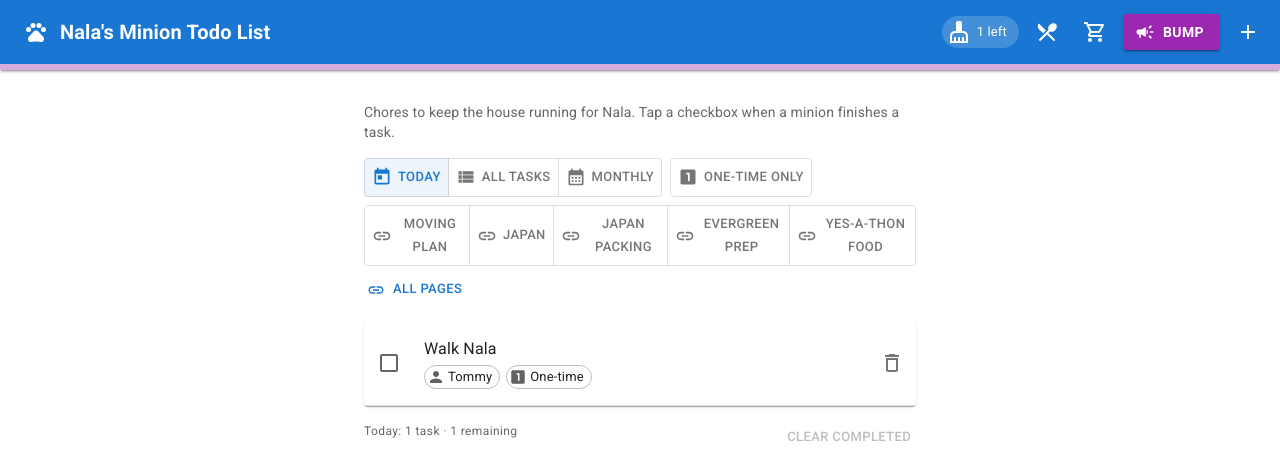
Test: removing a chore › deletes that one task by id instead of relying on the bulk save
This screenshot has width=1280, height=458.
Check: the text "Walk Nala" is shown, box [424,339,497,358]
Click the button named "delete": {"x": 892, "y": 363} [872,343,912,383]
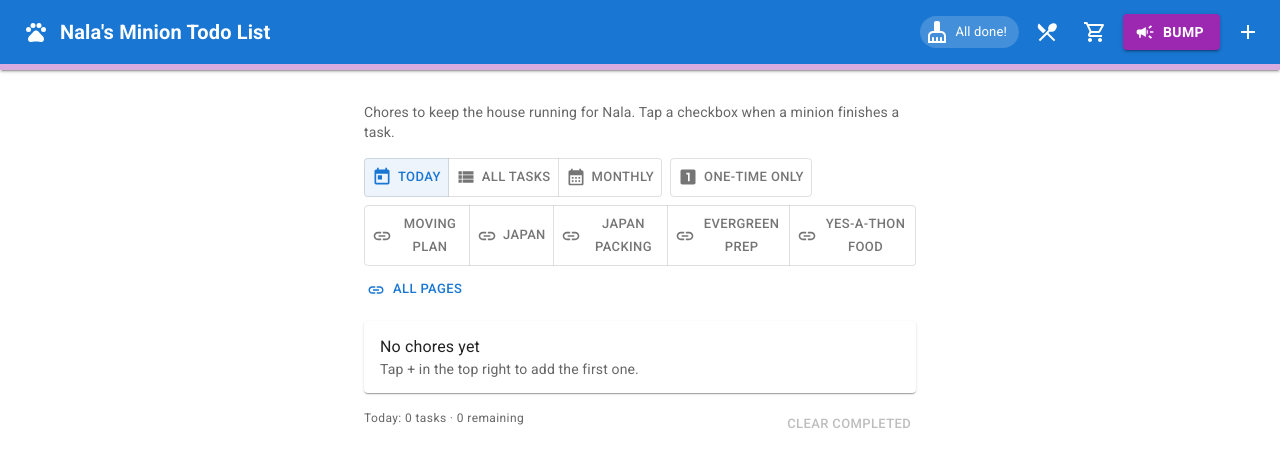
Check: the button "Walk Nala" is gone
